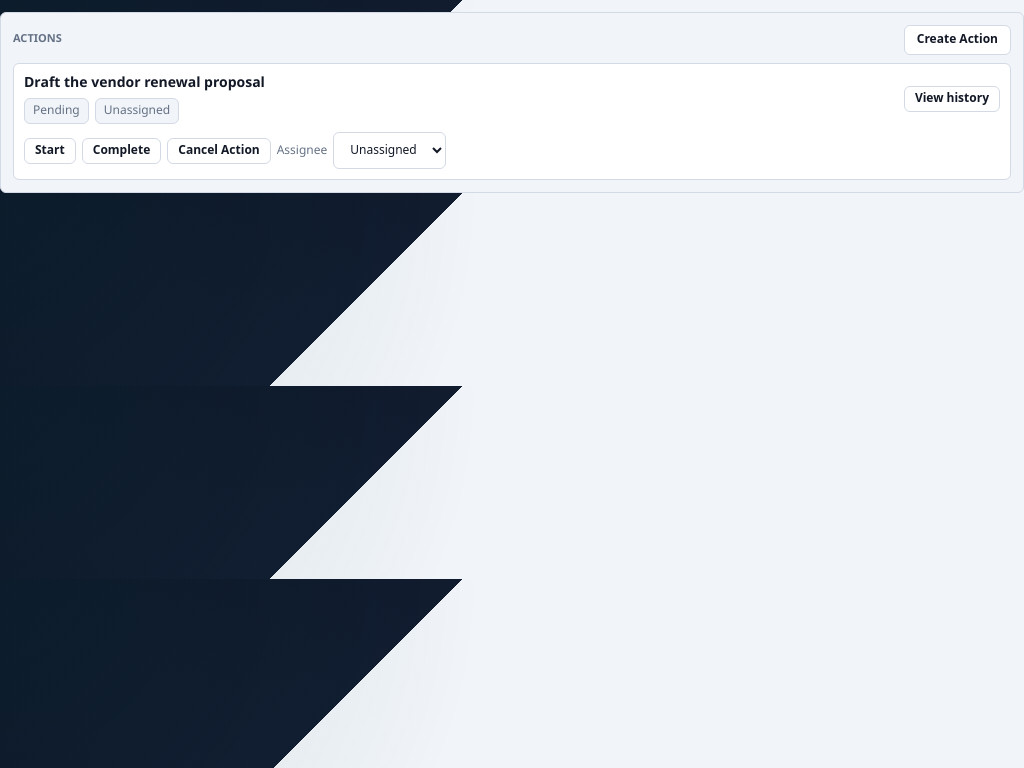
it: Actions panel - status transitions › a 409 conflict on status change shows a safe message, not a raw backend error
Check: the text "Draft the vendor renewal proposal" is shown, box [24,74,265,94]
Click the button "Start" at [50, 150], box [24,138,76,164]
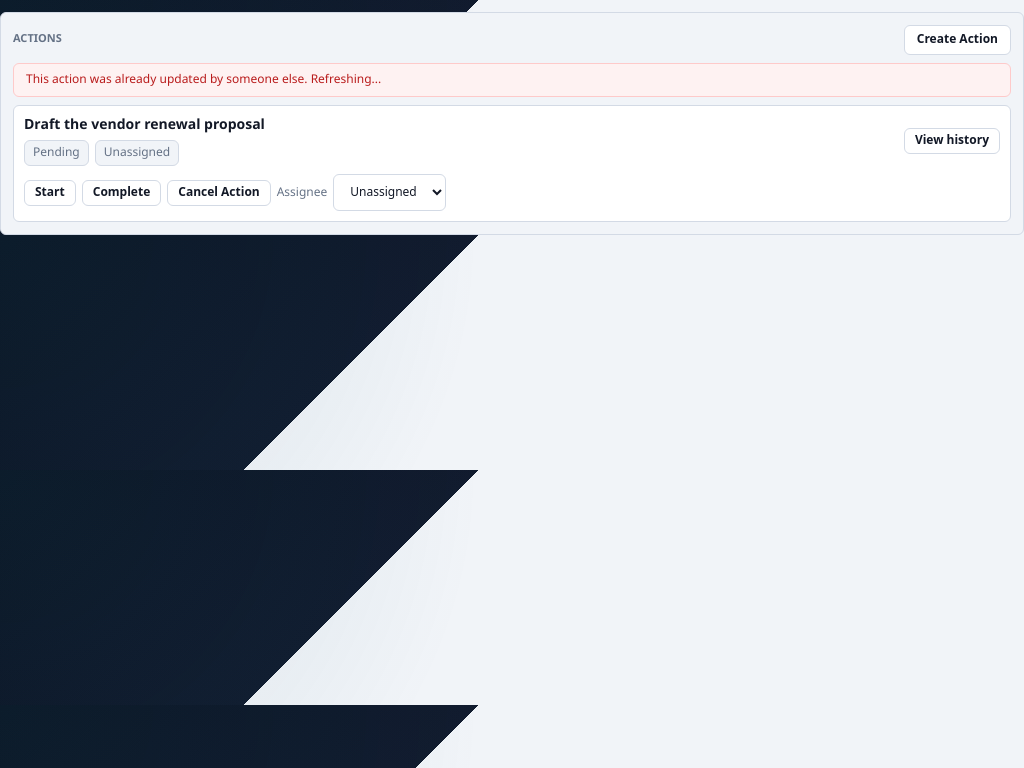
Check: the text "This action was already updated by someone else. Refreshing..." is shown, box [13,63,1011,97]
